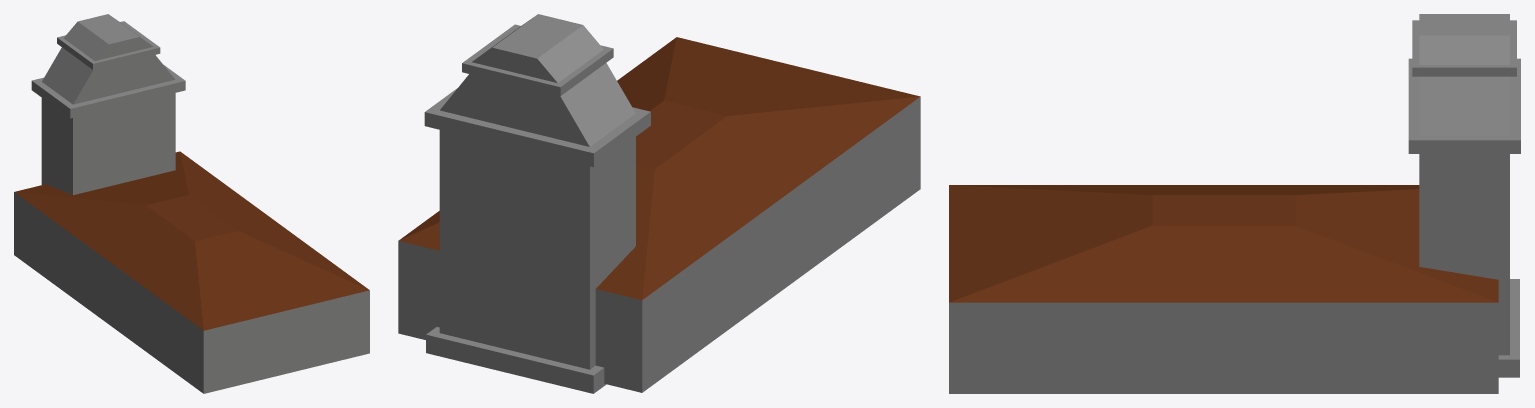
File: tombstone.fbx
The picture shows the model from 3 angles, left to right: view 1: azimuth 30°, elevation 25°; view 2: azimuth 150°, elevation 25°; view 3: azimuth 270°, elevation 25°; orthographic projection. The views are drawn at different scales.
Parts seen in each view (by area): view 1: Cube, tomstones.obj; view 2: Cube, tomstones.obj; view 3: Cube, tomstones.obj.
Part boxes in pixels (x1,y1,x2,y2): Cube: [14, 151, 369, 393]; tomstones.obj: [31, 14, 185, 195]; Cube: [398, 37, 920, 392]; tomstones.obj: [424, 14, 650, 393]; Cube: [949, 185, 1498, 393]; tomstones.obj: [1408, 14, 1520, 377].
Bounding box in the file's own units: 332 × 412 × 682.
